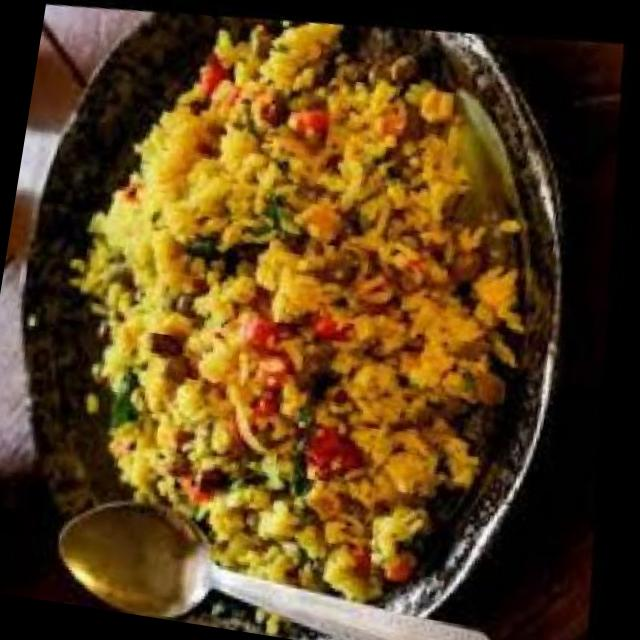poha: (8, 0, 601, 640)
